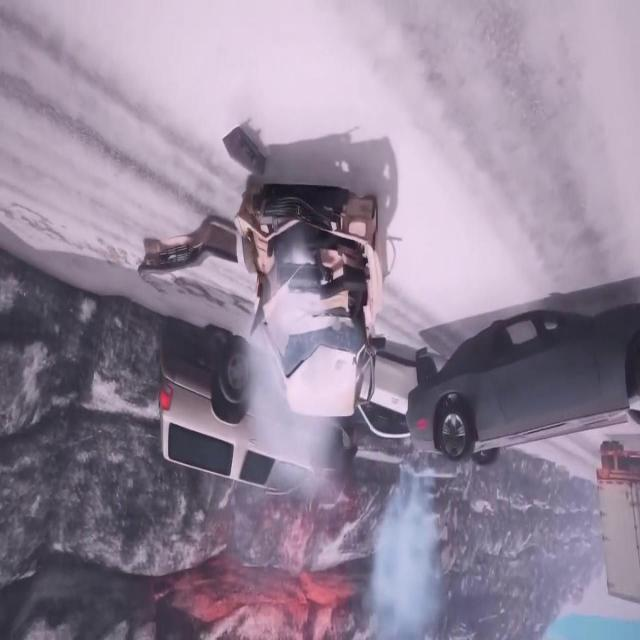severe: (152, 334, 442, 504), (403, 289, 640, 472), (234, 178, 392, 432)
